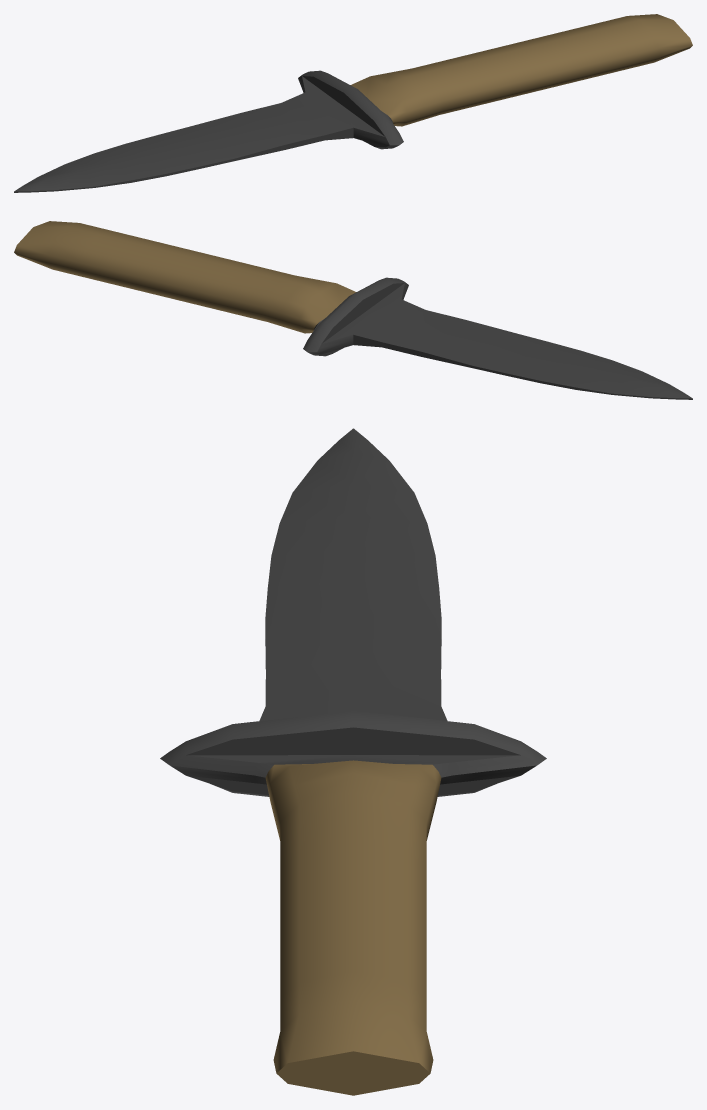
File: Dagger.FBX
3 renders of one model, top to bottom at view 1: azimuth 30°, elevation 25°; view 2: azimuth 150°, elevation 25°; view 3: azimuth 270°, elevation 25°, orthographic. The views are drawn at different scales.
Parts seen in each view (by area): view 1: Dagger; view 2: Dagger; view 3: Dagger.
Part boxes in pixels (left/top/right/bottom): Dagger: left=14, top=14, right=692, bottom=192; Dagger: left=14, top=221, right=692, bottom=399; Dagger: left=160, top=428, right=546, bottom=1095.
Bounding box in the file's own units: 20 × 1.38 × 5.08.
